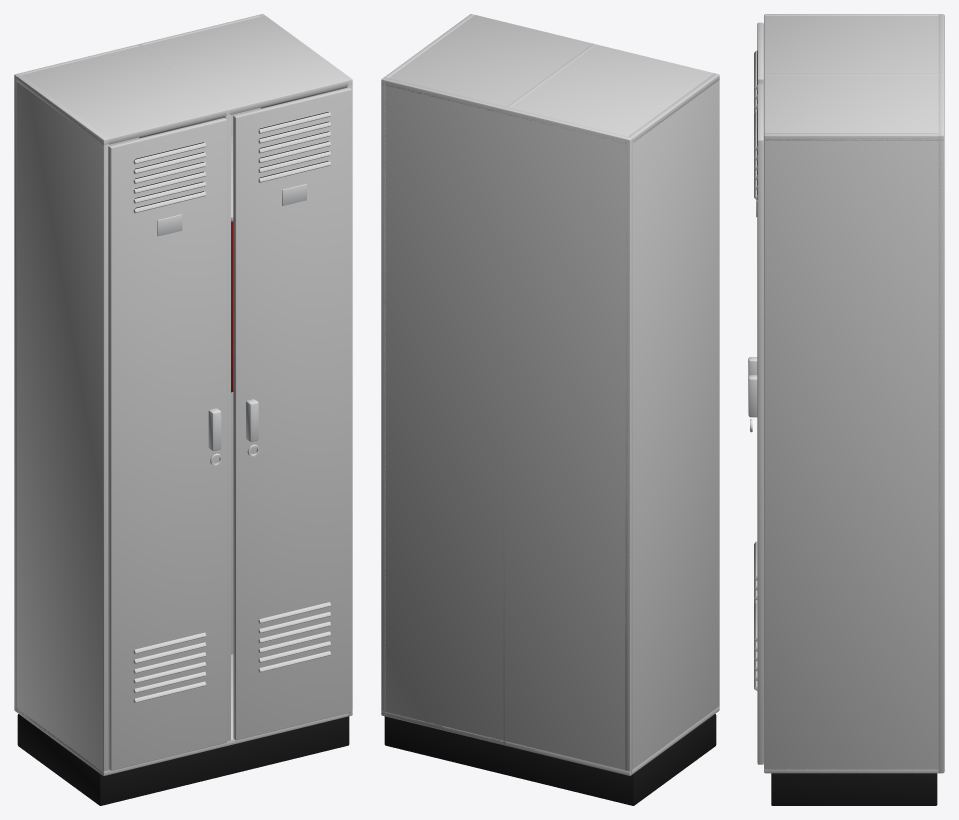
File: Locker.fbx
3 renders of one model, left to right at view 1: azimuth 30°, elevation 25°; view 2: azimuth 150°, elevation 25°; view 3: azimuth 270°, elevation 25°, orthographic.
Visible parts, largest first — view 1: LockerBody, DoorR, DoorL; view 2: LockerBody; view 3: LockerBody, DoorR, DoorL.
Part boxes in pixels (x1,y1,x2,y2): LockerBody: (14,14,352,805); DoorR: (233,87,351,740); DoorL: (108,118,226,770); LockerBody: (381,14,719,805); LockerBody: (764,14,944,805); DoorR: (748,83,763,764); DoorL: (748,22,763,604).
Bounding box in the file's own units: 0.8 × 2.05 × 0.543.
